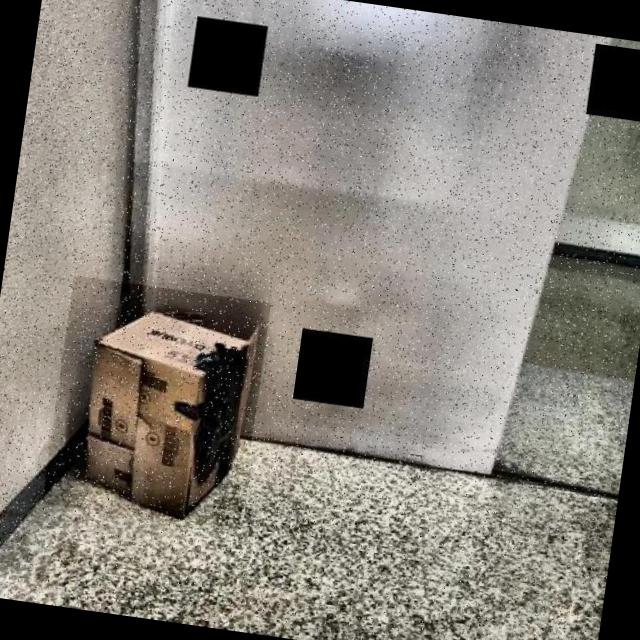box: (42, 276, 272, 531)
